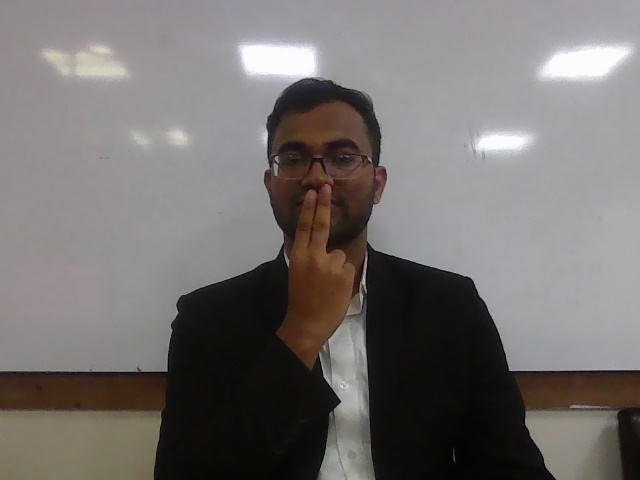Bak: (284, 182, 357, 340)
